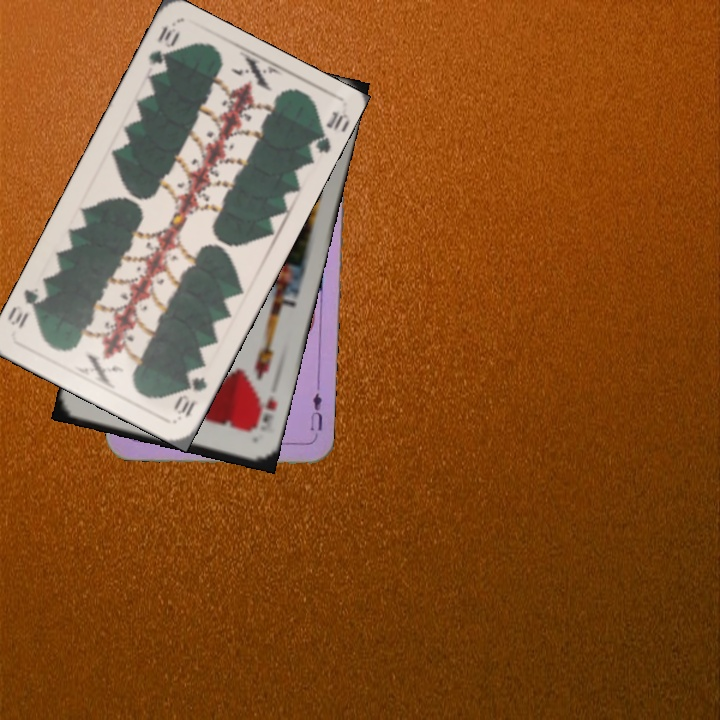EU: (306, 389, 325, 443)
G10: (144, 22, 183, 79), (169, 373, 210, 419)
HK: (247, 392, 280, 436)
